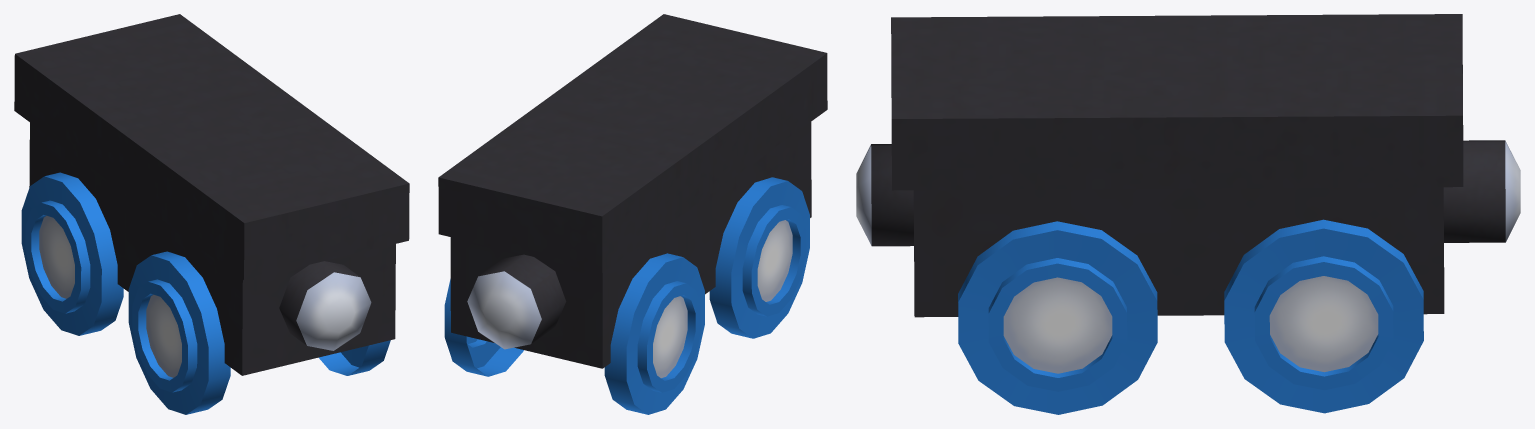
File: Train3.fbx
3 views of the same model, side by side, from view 1: azimuth 30°, elevation 25°; view 2: azimuth 150°, elevation 25°; view 3: azimuth 270°, elevation 25° (orthographic). The views are drawn at different scales.
Parts seen in each view (by area): view 1: Train3, Train3_Bump1; view 2: Train3, Train3_Bump2; view 3: Train3, Train3_Bump2, Train3_Bump1.
Part boxes in pixels (x1=…): Train3: x1=14, y1=14, x2=409, y2=414; Train3_Bump1: x1=279, y1=261, x2=371, y2=350; Train3: x1=438, y1=14, x2=827, y2=414; Train3_Bump2: x1=467, y1=254, x2=566, y2=349; Train3: x1=891, y1=14, x2=1463, y2=414; Train3_Bump2: x1=1443, y1=140, x2=1520, y2=242; Train3_Bump1: x1=856, y1=144, x2=913, y2=246.
Size of the model in its own units: 61.06 by 68.22 by 140.
